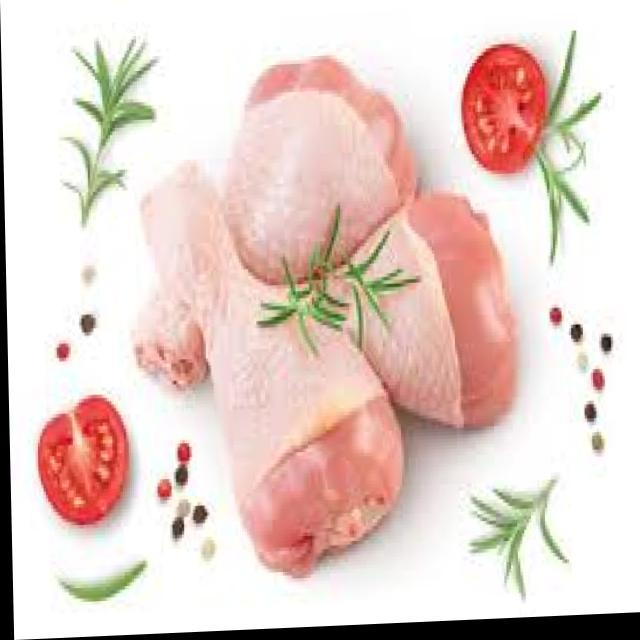leg: (143, 158, 392, 566), (119, 49, 404, 381), (254, 195, 514, 444)
